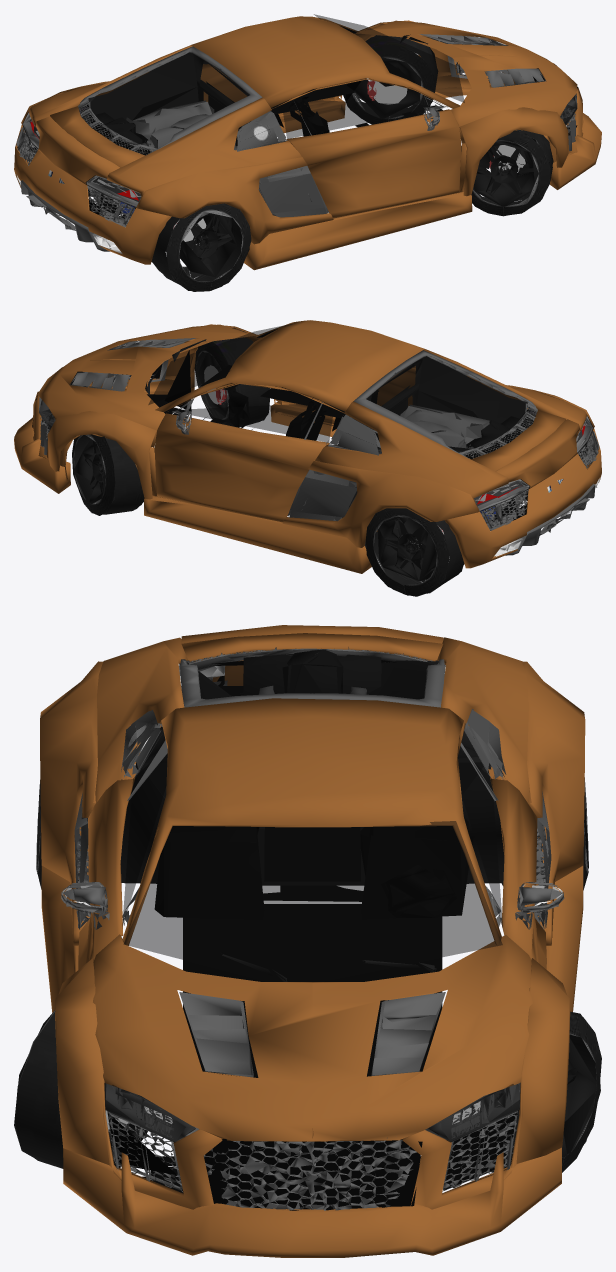
The model's file is veh-audi-r8.glb.
The picture shows the model from 3 angles, top to bottom: view 1: azimuth 30°, elevation 25°; view 2: azimuth 150°, elevation 25°; view 3: azimuth 270°, elevation 25°; orthographic projection. The views are drawn at different scales.
Parts seen in each view (by area): view 1: Doors_body_0, Doors.009_body_0, Plane_glass_0, Doors.001_body_0, custom hood_body_0, Doors.018_body_0, Doors.016_body_0, Doors.011_body_0, Cylinder.006_tire_0, Doors.015_matte black_0, Cylinder.003_tire_0, Circle.004_rim_0 (+24 smaller); view 2: Doors_body_0, Doors.009_body_0, Plane_glass_0, Doors.001_body_0, custom hood_body_0, Doors.018_body_0, Doors.016_body_0, Cylinder.006_tire_0, Doors.011_body_0, Doors.015_matte black_0, Hood.003_body_0, Cylinder.003_tire_0 (+23 smaller); view 3: custom hood_body_0, Doors.014_glass_0, Doors.009_body_0, Front Bumper.005_body_0, Doors.016_body_0, Plane.011_pure black_0, Cube.018_pure black_0, Hood.003_body_0, Doors.001_body_0, Doors.015_matte black_0, Doors_body_0, Plane_glass_0 (+26 smaller).
Boxes of the visible parts, x1,y1,x2,y2 form: Doors_body_0: (200,64,460,218); Doors.009_body_0: (191,16,460,108); Plane_glass_0: (90,52,249,148); Doors.001_body_0: (23,45,329,217); custom hood_body_0: (354,20,577,143); Doors.018_body_0: (244,98,472,270); Doors.016_body_0: (21,81,333,244); Doors.011_body_0: (14,124,171,264); Cylinder.006_tire_0: (343,35,553,216); Doors.015_matte black_0: (88,52,269,196); Cylinder.003_tire_0: (31,104,251,291); Circle.004_rim_0: (354,45,538,206); Doors_body_0: (155,366,415,522); Doors.009_body_0: (155,320,424,412); Plane_glass_0: (366,356,525,451); Doors.001_body_0: (286,349,592,521); custom hood_body_0: (37,324,260,447); Doors.018_body_0: (144,401,371,573); Doors.016_body_0: (282,385,594,547); Cylinder.006_tire_0: (72,330,269,515); Doors.011_body_0: (445,428,601,568); Doors.015_matte black_0: (348,356,527,504); Hood.003_body_0: (47,324,255,499); Cylinder.003_tire_0: (365,409,584,596); custom hood_body_0: (93,934,532,1141); Doors.014_glass_0: (123,821,502,981); Doors.009_body_0: (122,698,501,947); Front Bumper.005_body_0: (63,1147,561,1257); Doors.016_body_0: (40,661,585,945); Plane.011_pure black_0: (142,885,454,1193); Cube.018_pure black_0: (154,818,473,919); Hood.003_body_0: (55,958,570,1165); Doors.001_body_0: (79,637,545,931); Doors.015_matte black_0: (120,660,504,885); Doors_body_0: (78,779,546,969); Plane_glass_0: (189,649,431,699).
Bounding box in the file's own units: 62.6 × 17.65 × 32.64.
15 materials, 5 textured.
